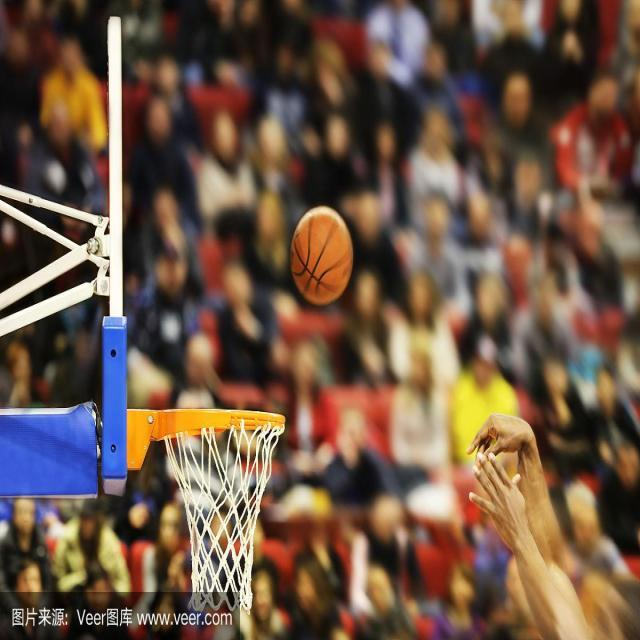rim: (291, 209, 352, 305)
